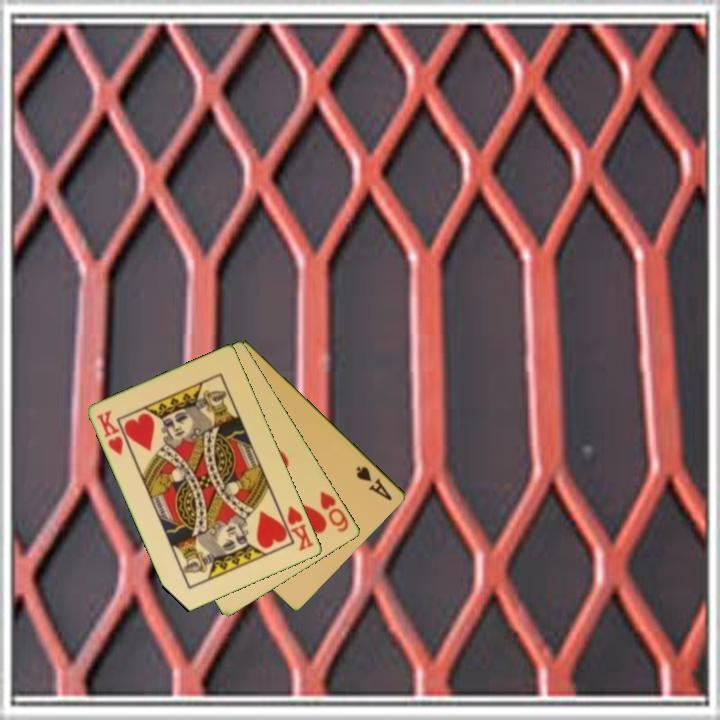6h: (316, 487, 352, 535)
As: (353, 462, 395, 504)
Kh: (276, 502, 317, 554), (93, 407, 127, 458)
